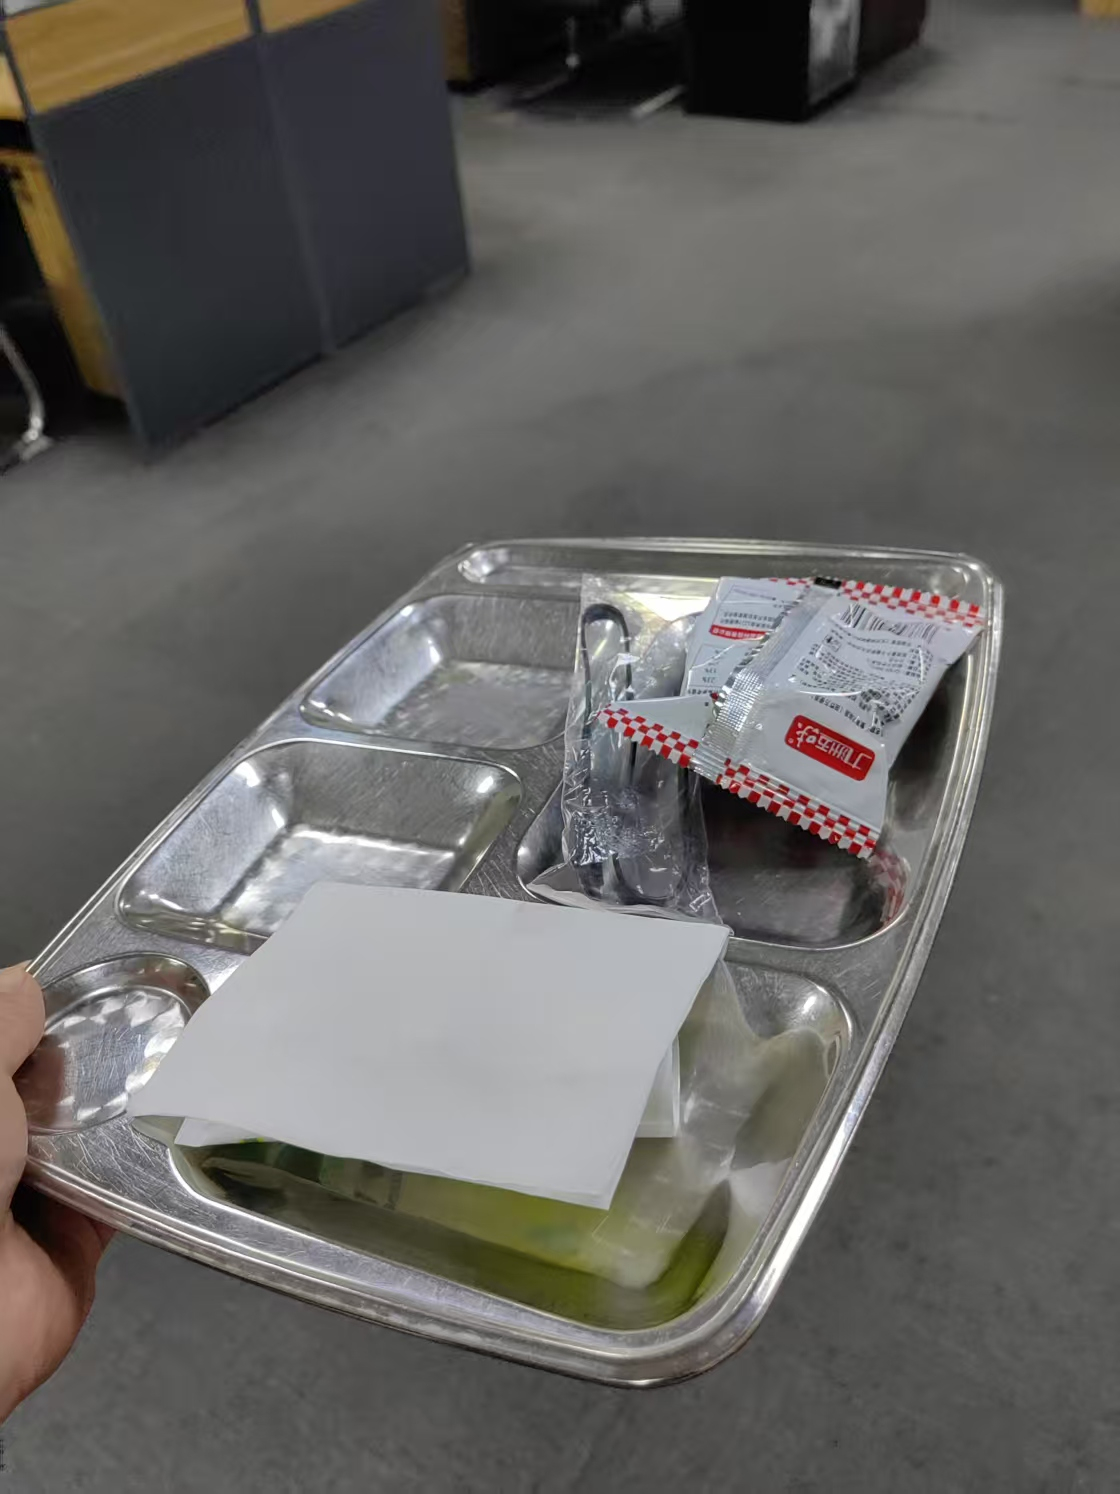mild: (559, 570, 988, 938)
plate: (8, 532, 1008, 1398)
tissue: (122, 878, 737, 1216)
